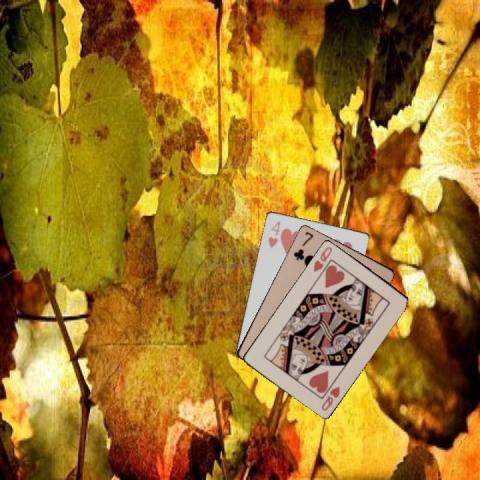4h: (265, 218, 281, 250)
7c: (290, 228, 314, 261)
Qh: (310, 244, 333, 274), (318, 383, 341, 412)
